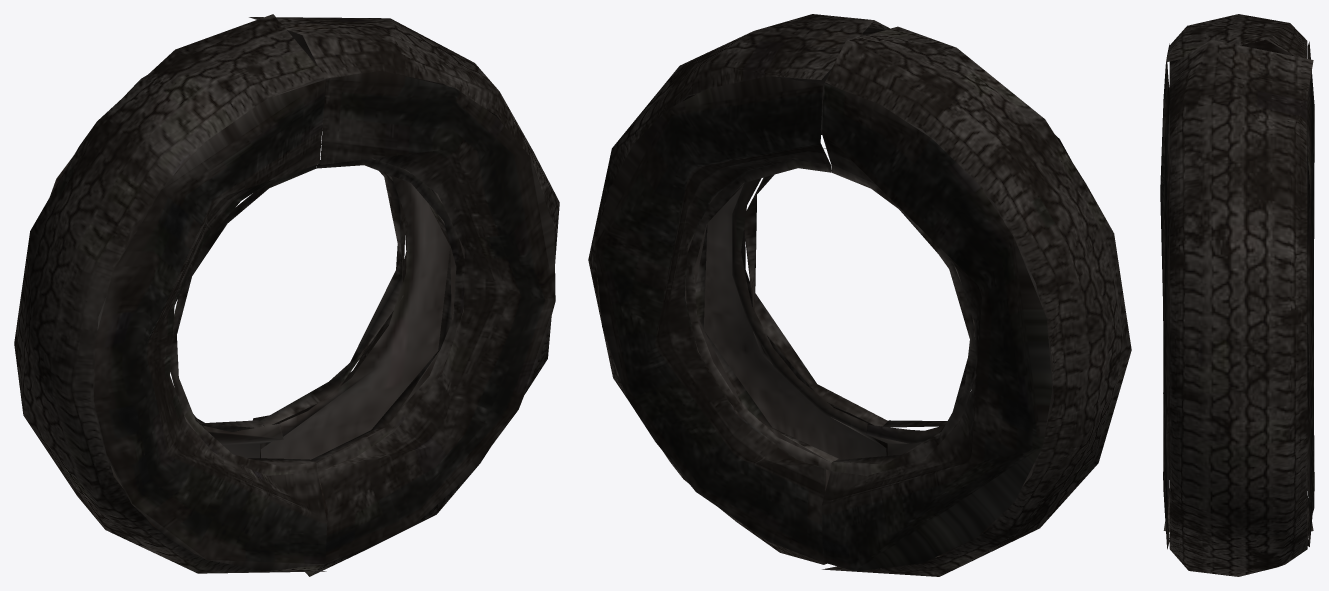
Rendered from old_tyre.glb.
3 views of the same model, side by side, from view 1: azimuth 30°, elevation 25°; view 2: azimuth 150°, elevation 25°; view 3: azimuth 270°, elevation 25° (orthographic). The views are drawn at different scales.
Visible parts, largest first — view 1: old_tyre; view 2: old_tyre; view 3: old_tyre.
Boxes of the visible parts, bbox=[...] form: old_tyre: bbox=[14, 14, 559, 576]; old_tyre: bbox=[588, 14, 1131, 576]; old_tyre: bbox=[1160, 14, 1314, 576].
Bounding box in the file's own units: 0.6041 × 0.6092 × 0.1667.
Materials: 1 (1 with a texture image).
